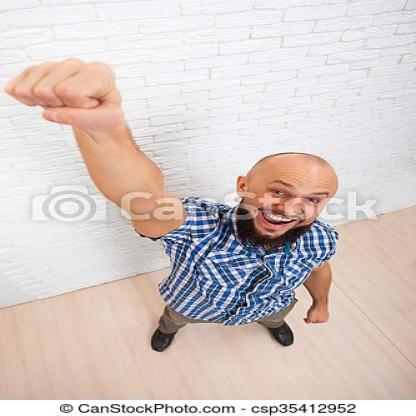fist: (1, 52, 136, 132)
